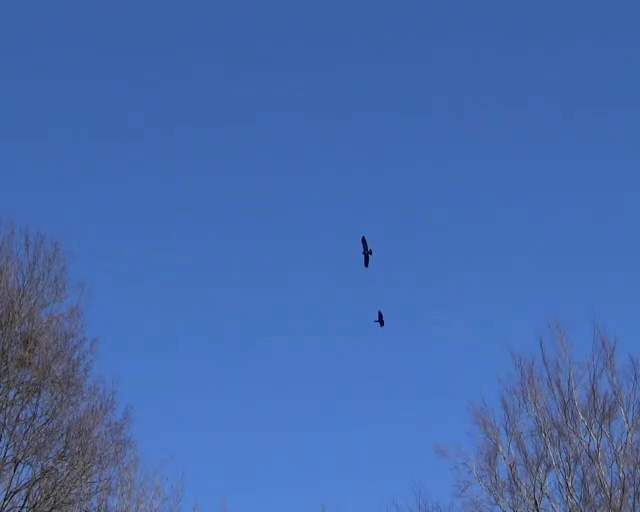BIRD: (360, 235, 373, 268)
